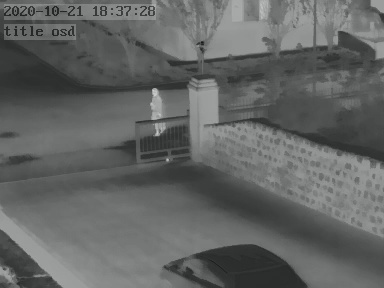person: (148, 84, 167, 140)
vehicle: (161, 238, 309, 288)
